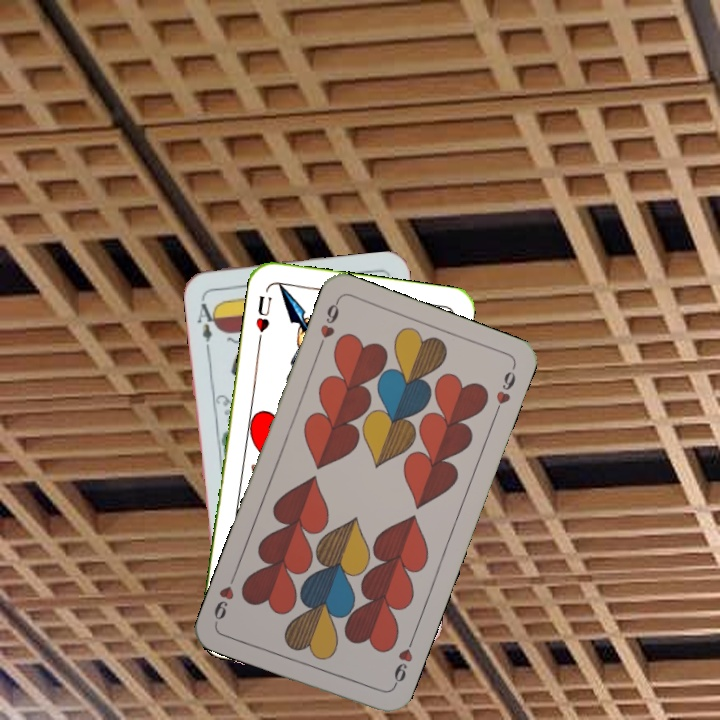EA: (192, 293, 220, 352)
H9: (388, 634, 417, 691), (314, 296, 342, 353)
HU: (251, 291, 274, 335)
